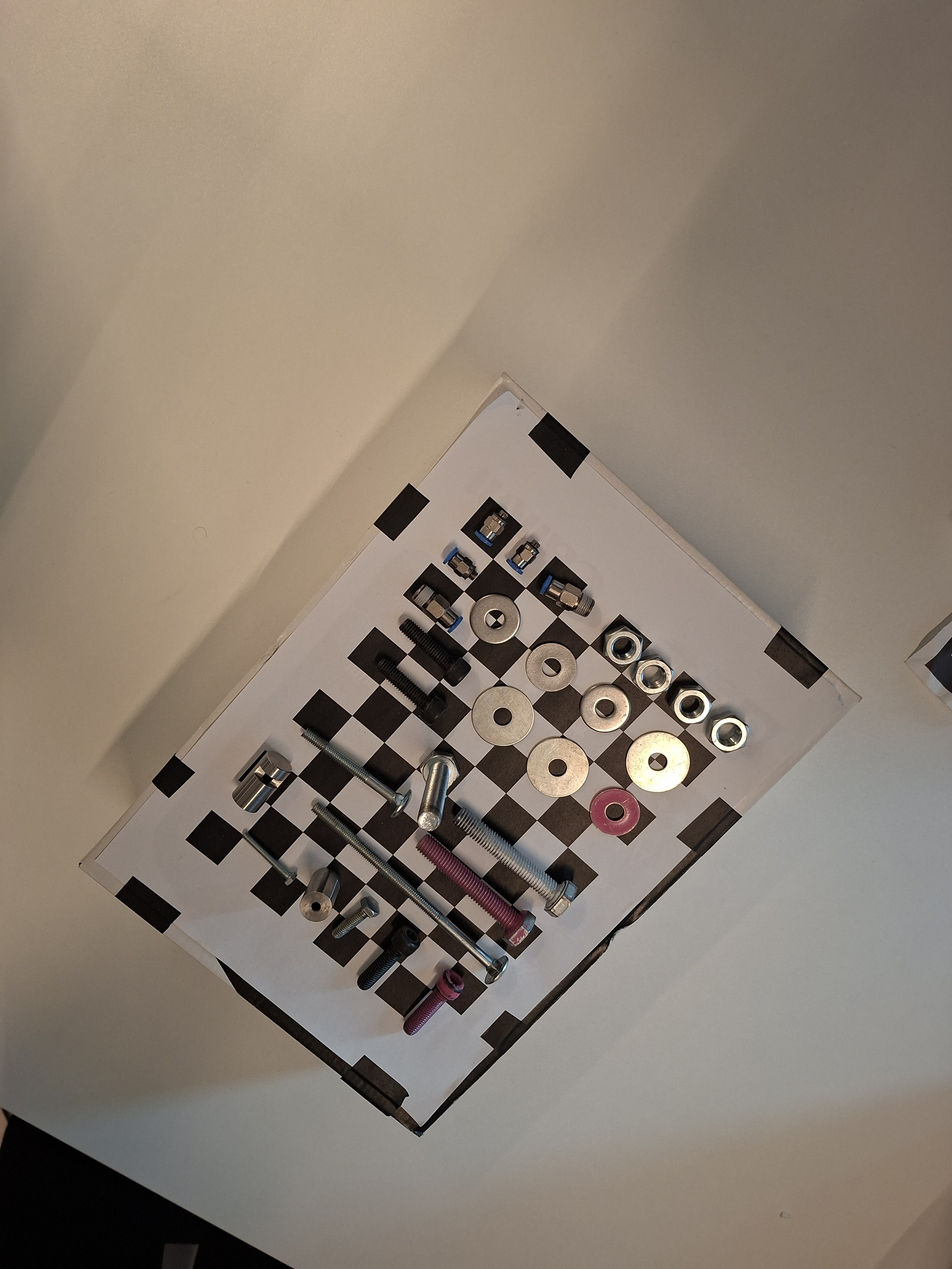allen_screw: (362, 641, 459, 735), (392, 609, 479, 692), (344, 917, 429, 1001), (391, 962, 472, 1045)
barrel_nut: (219, 736, 300, 819), (286, 860, 351, 930)
carriage_bolt: (303, 785, 518, 994), (290, 713, 421, 824)
hex_bolt: (443, 791, 584, 927), (405, 822, 542, 954), (235, 823, 305, 891), (414, 746, 464, 834), (323, 889, 389, 948)
hex_nut: (595, 618, 651, 674), (699, 705, 755, 760), (626, 652, 683, 700), (666, 682, 713, 728)
pneumatic_fitting: (402, 572, 473, 639), (534, 568, 604, 626), (468, 497, 518, 550), (502, 531, 549, 579), (438, 542, 486, 588)
washer: (466, 682, 536, 750), (622, 727, 693, 794), (519, 733, 591, 799), (575, 678, 634, 736), (585, 784, 647, 839), (467, 588, 525, 646), (521, 638, 579, 695)
